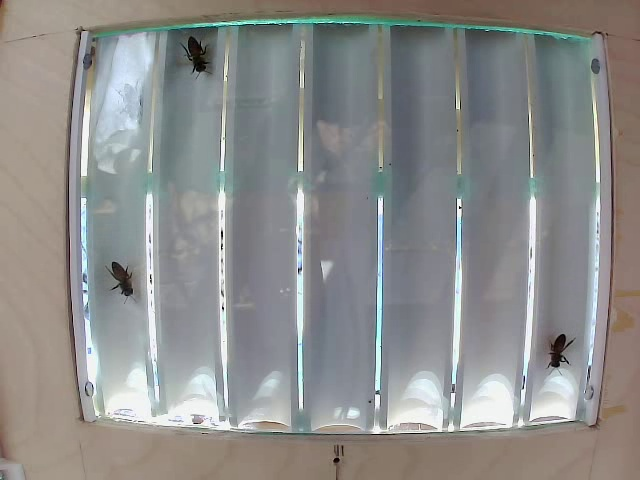bee: (538, 327, 583, 367), (174, 36, 215, 76), (114, 261, 135, 298)
